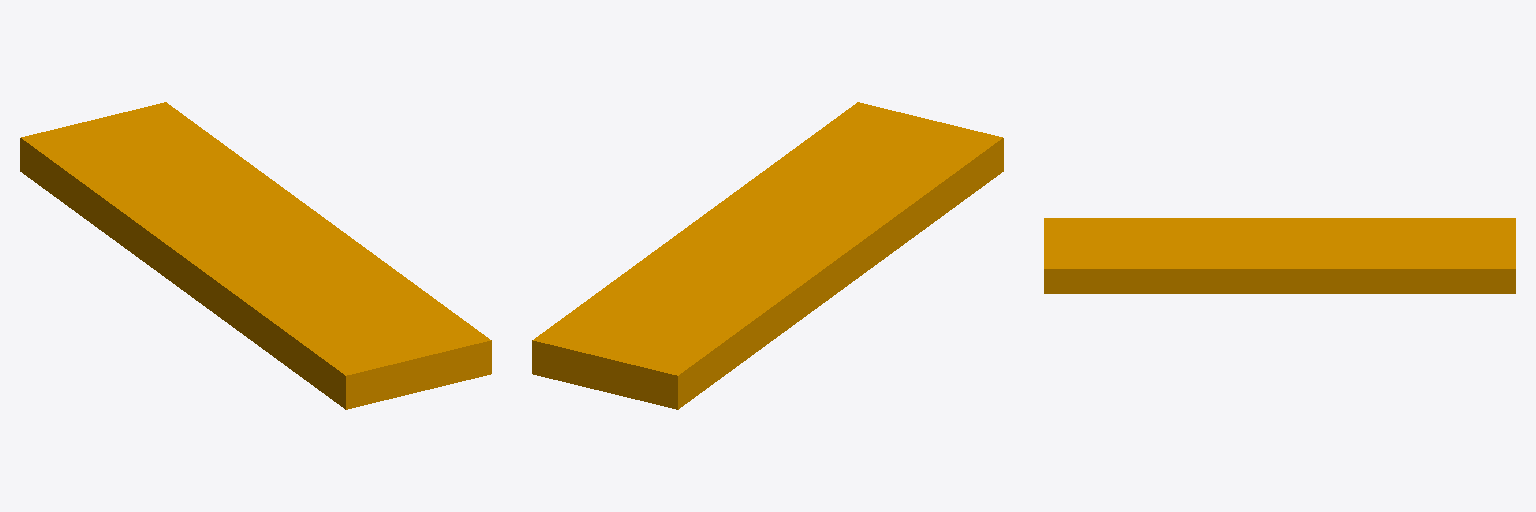
robot.urdf — table:
<?xml version="1.0"?>
<robot name="table">
    <link name="table">
        <visual>
            <origin xyz="0 0 0 " rpy=" 0 0 0" />
            <geometry>
                <box size="0.47 1.82 0.105"/>
            </geometry>
        </visual>
        <collision>
            <origin xyz="0 0 0" rpy="0 0 0"/>
            <geometry>
                <box size="0.47 1.82 0.105"/>
            </geometry>
        </collision>
        <inertial>
            <origin rpy="0 0 0" xyz="0 0 0"/>
        </inertial>
    </link>
</robot>

--- Facts derived from the render (not from the file) ---
Views: 3 orthographic renders of the robot side by side, from view 1: azimuth 30°, elevation 25°; view 2: azimuth 150°, elevation 25°; view 3: azimuth 270°, elevation 25°.
Robot: table — 1 links, 0 joints (none); root link table; default pose: every joint at zero.
Links seen in each view (by area): view 1: table; view 2: table; view 3: table.
Boxes of the visible links, left/top/right/bottom form: table: left=20, top=102, right=491, bottom=409; table: left=532, top=102, right=1003, bottom=409; table: left=1044, top=218, right=1515, bottom=293.
Bounding box of the posed robot: 0.47 × 1.82 × 0.105 m (x, y, z).
Geometry: primitives only (box / cylinder / sphere), no mesh files.
